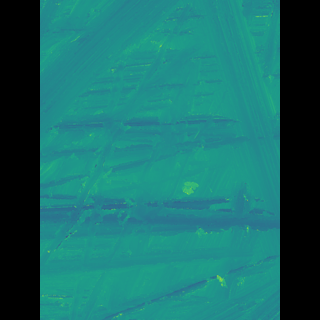Loch: (74, 5, 247, 315)
